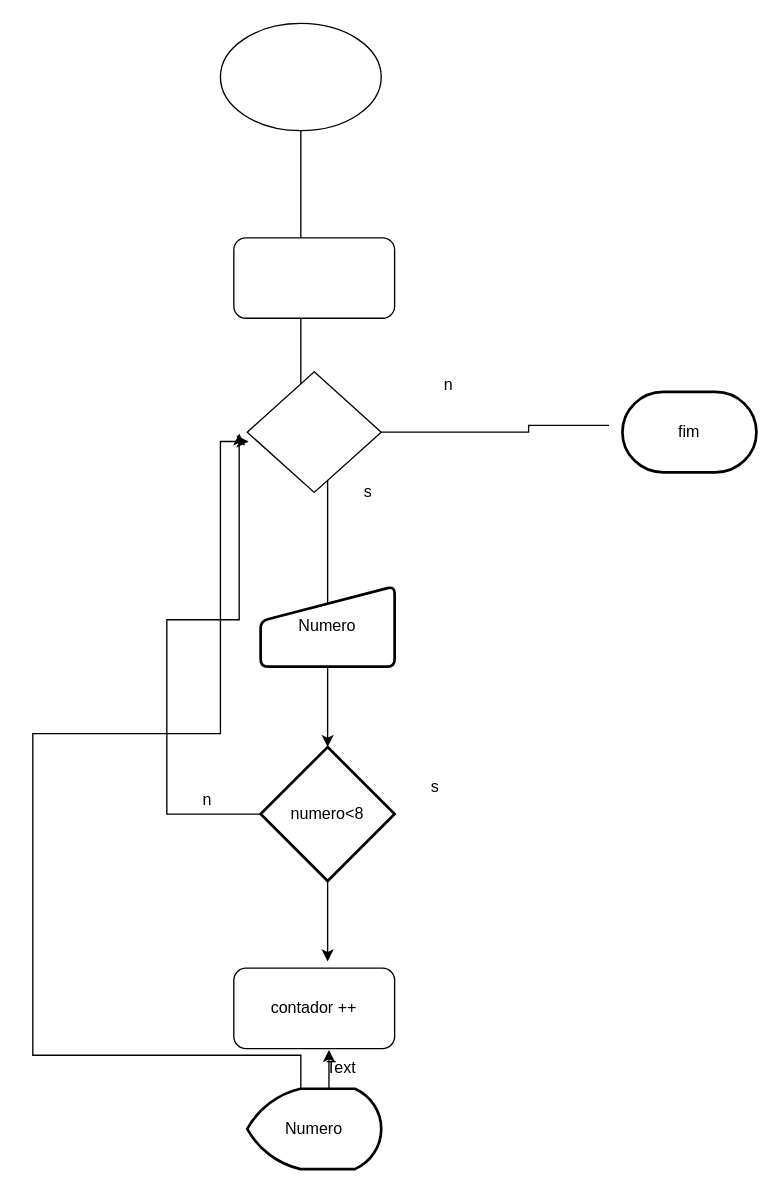
Image size: 781x1194. Some labels were removed from this diagram. Each missing label, with the box of its shape:
contador <10: (246, 371, 381, 492)
contador=: (232, 237, 395, 318)
inicio: (219, 22, 381, 131)
